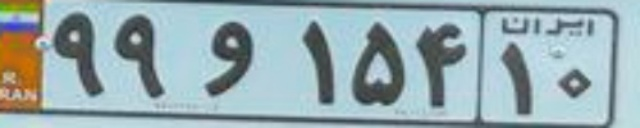0: (553, 67, 594, 98)
1: (498, 42, 535, 116), (302, 21, 333, 104)
4: (417, 24, 465, 107)
5: (351, 22, 408, 105)
9: (49, 13, 107, 95), (111, 15, 169, 97)
vav: (195, 20, 256, 94)
